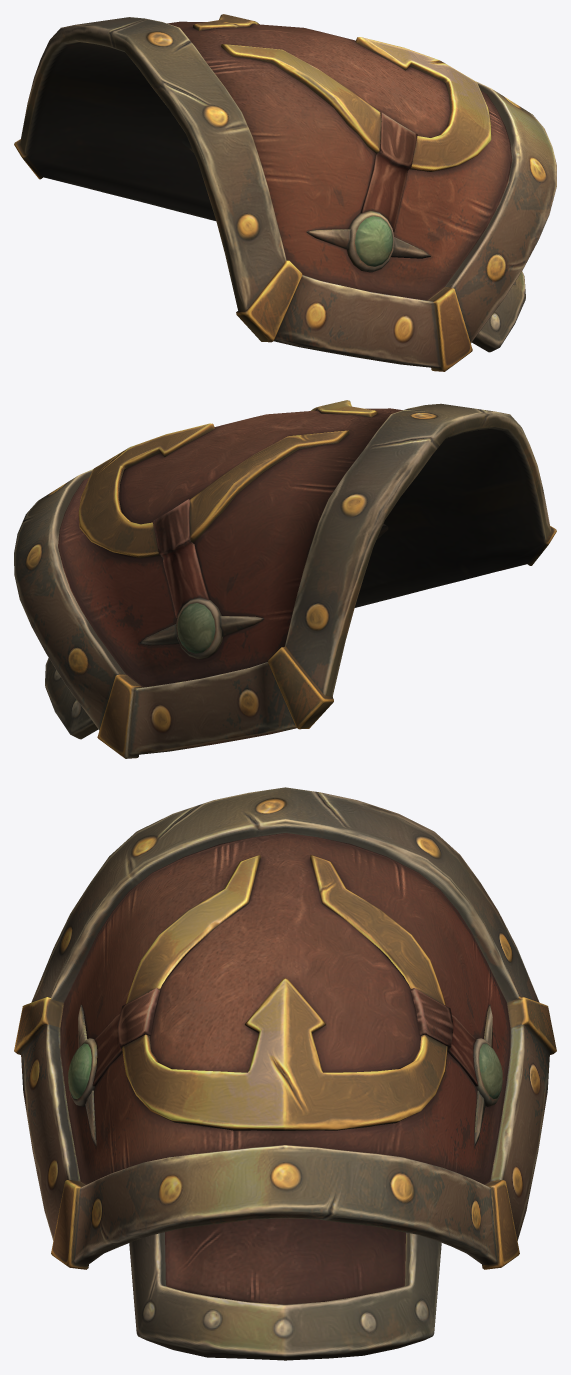
Rendered from sm_armor_dwarf_dhodin_paldron_l.gltf.
3 renders of one model, top to bottom at view 1: azimuth 30°, elevation 25°; view 2: azimuth 150°, elevation 25°; view 3: azimuth 270°, elevation 25°, orthographic. The views are drawn at different scales.
Visible parts, largest first — view 1: sm_armor_dwarf_dhodin_paldron_l; view 2: sm_armor_dwarf_dhodin_paldron_l; view 3: sm_armor_dwarf_dhodin_paldron_l.
Part boxes in pixels (x1=…): sm_armor_dwarf_dhodin_paldron_l: x1=14, y1=14, x2=556, y2=371; sm_armor_dwarf_dhodin_paldron_l: x1=14, y1=400, x2=556, y2=758; sm_armor_dwarf_dhodin_paldron_l: x1=14, y1=787, x2=556, y2=1360.
Size of the model in its own units: 0.4687 by 0.3745 by 0.4756.
Materials: 1 (1 with a texture image).
